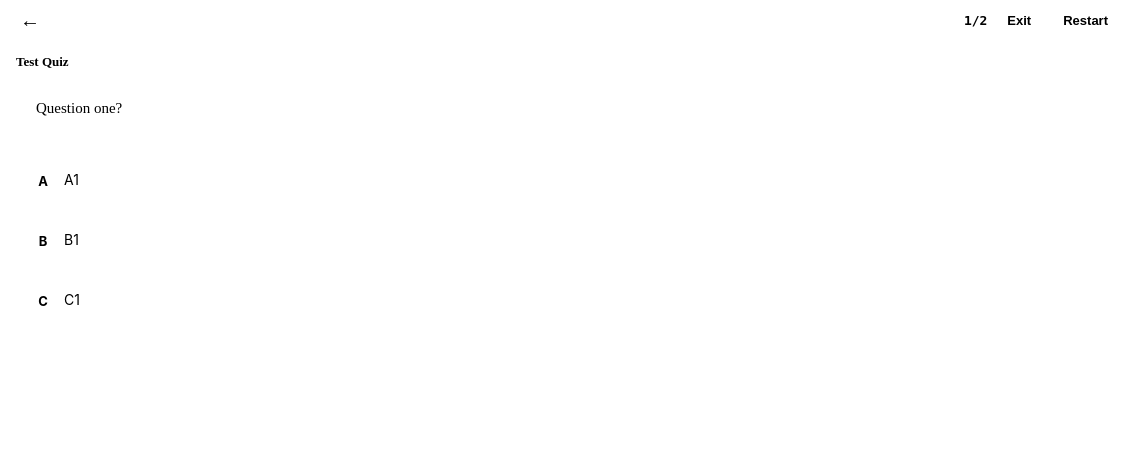
Test: QuizEngine completion (BUG A results screen + BUG B duplicate guard) › shows a results screen when the quiz is finished
Click the button "A A1" at (43, 181), box [16, 156, 1120, 206]
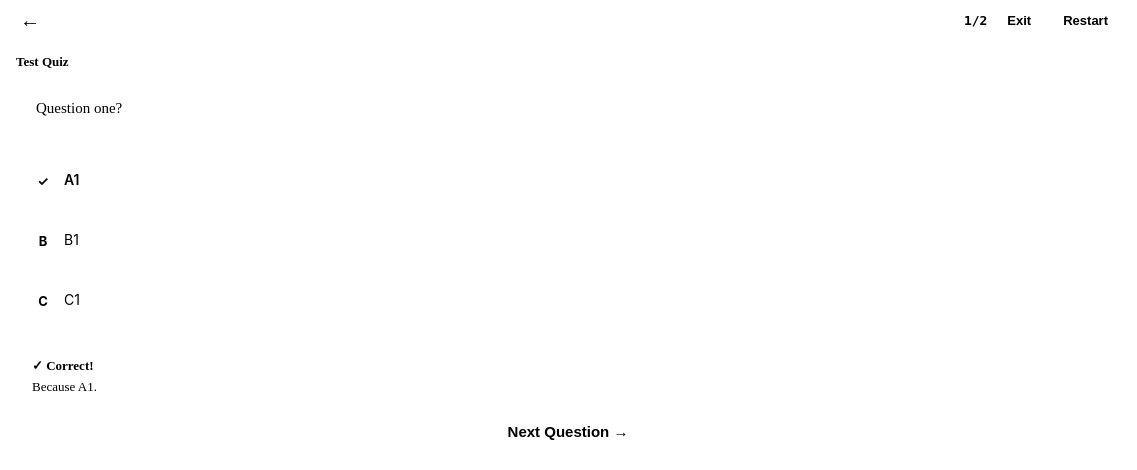
Click the button "Next Question →" at (568, 431), box [32, 409, 1104, 454]
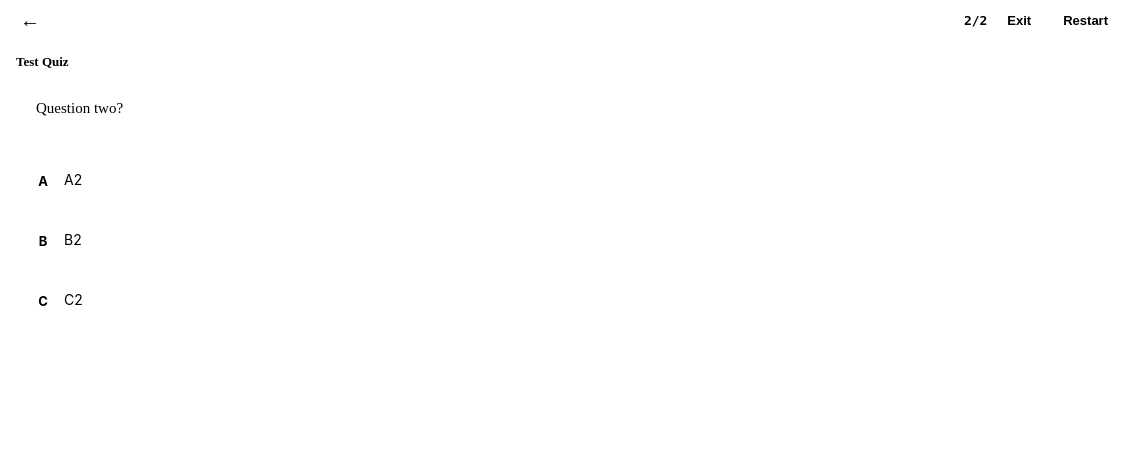
Click the button "A A2" at (43, 181), box [16, 156, 1120, 206]
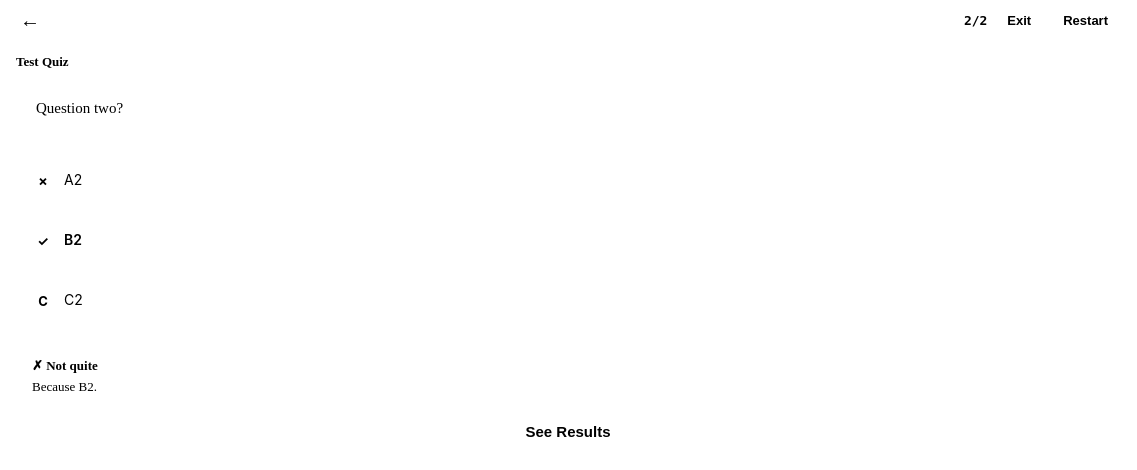
Click the button "See Results" at (568, 431), box [32, 409, 1104, 454]
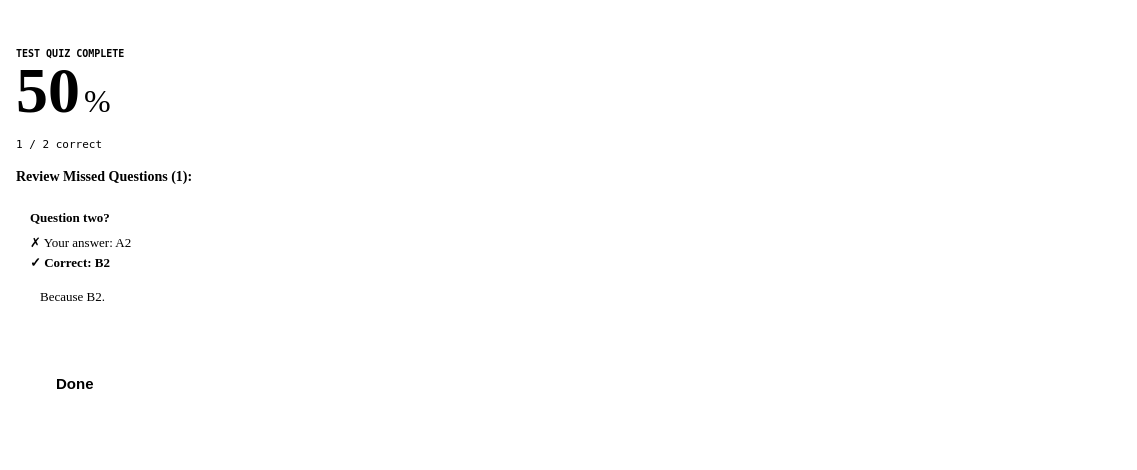
expect the text "Test Quiz complete" is shown: met, box [16, 48, 124, 59]
expect the text "1 / 2 correct" is shown: met, box [16, 138, 102, 151]
expect the button "Done" is shown: met, box [16, 361, 134, 406]
